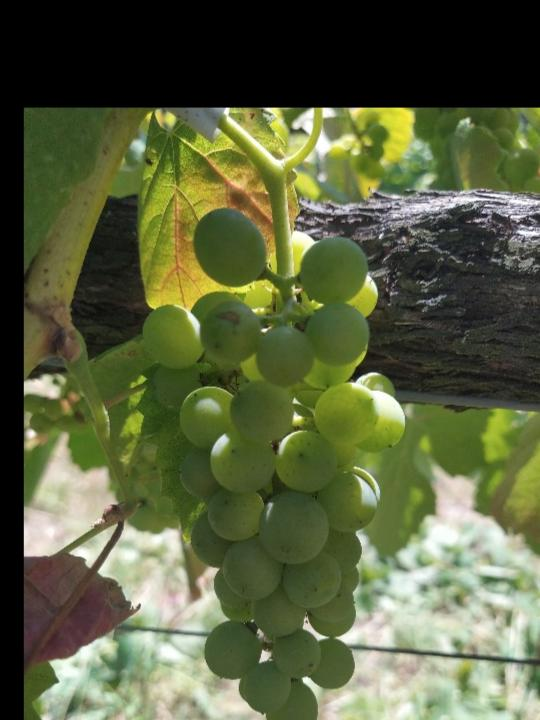grape: (142, 205, 408, 720)
